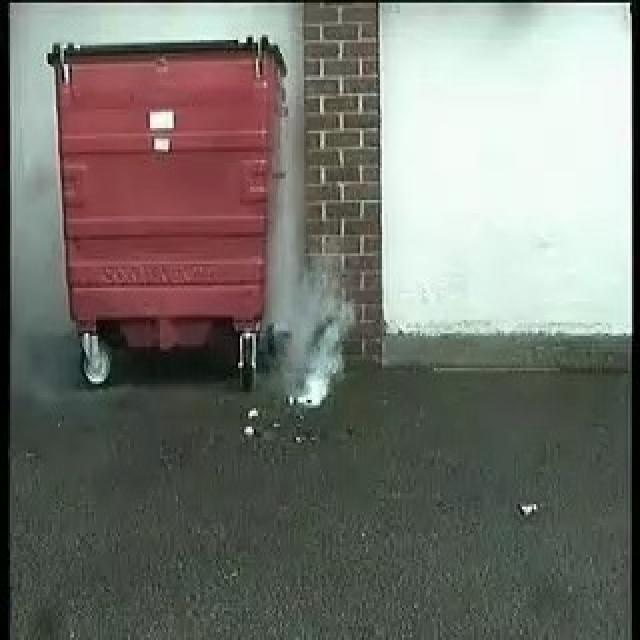smoke: (278, 258, 354, 410)
